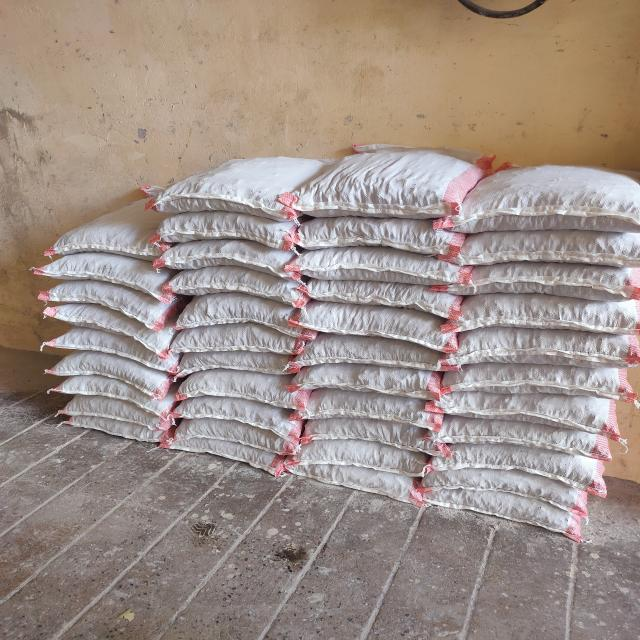Gravel: (478, 168, 638, 236), (453, 357, 623, 392), (437, 384, 607, 419), (435, 412, 605, 447), (428, 440, 598, 475), (187, 161, 316, 201), (332, 160, 461, 200), (484, 227, 613, 267), (310, 211, 439, 251), (425, 462, 593, 492), (422, 489, 590, 519), (472, 295, 626, 326), (465, 330, 619, 361), (65, 211, 179, 247), (309, 253, 465, 279), (313, 281, 469, 307), (297, 308, 453, 334), (292, 337, 448, 363), (296, 363, 452, 389), (292, 389, 448, 415), (292, 421, 448, 447), (298, 462, 436, 491), (293, 436, 431, 465), (484, 264, 622, 293), (164, 214, 291, 245), (50, 255, 165, 281), (56, 283, 171, 309), (50, 305, 165, 331), (54, 329, 169, 355), (54, 354, 169, 380), (56, 375, 171, 401), (56, 396, 171, 422), (58, 415, 173, 441), (169, 436, 284, 462), (168, 419, 283, 445), (181, 402, 296, 428), (182, 372, 297, 398), (183, 348, 298, 374), (183, 324, 298, 350), (174, 293, 289, 319), (174, 268, 289, 294), (170, 242, 294, 266)
